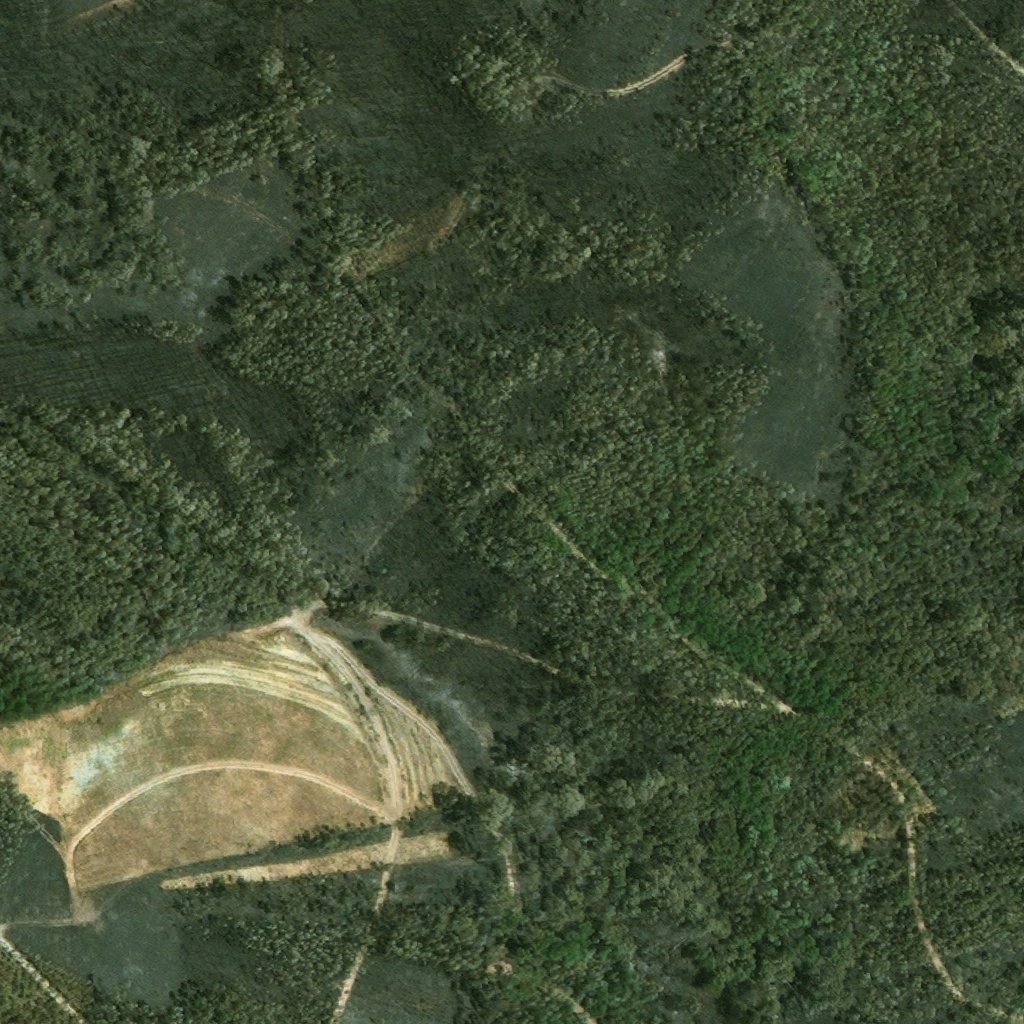4 un-classified: (218, 872, 233, 889)
